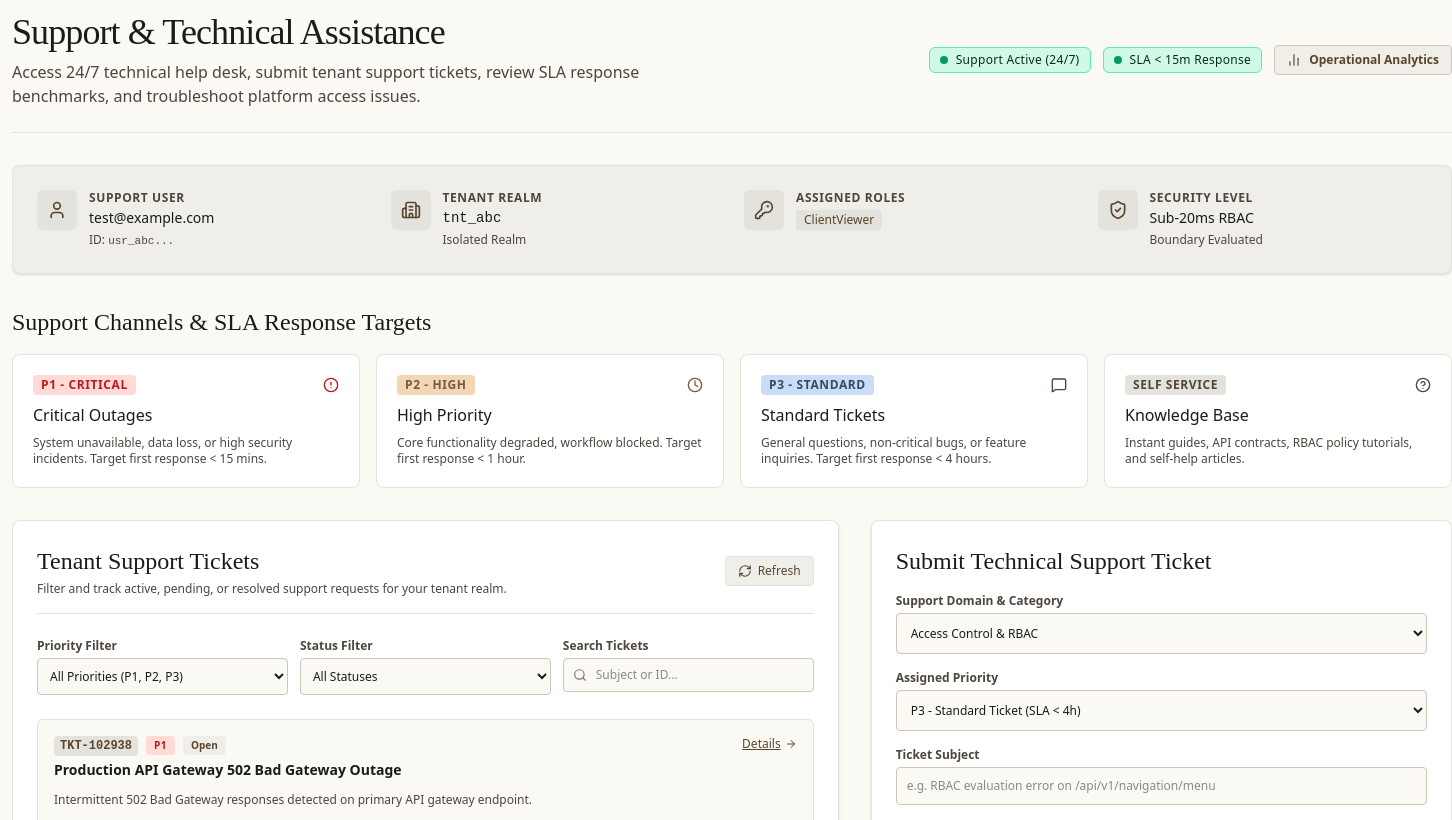
Test case: SupportPage Component › renders support ticket directory and filters tickets by priority, status, and search query
Expected: the heading "Tenant Support Tickets" is shown, 37,548 -> 259,574
Expected: the heading "Production API Gateway 502 Bad Gateway Outage" is shown, 54,760 -> 402,780
// Filter by Priority P1
Select "P1 - Critical" in the dropdown labelled "Priority Filter" at (162, 676), box 37,658 -> 288,695
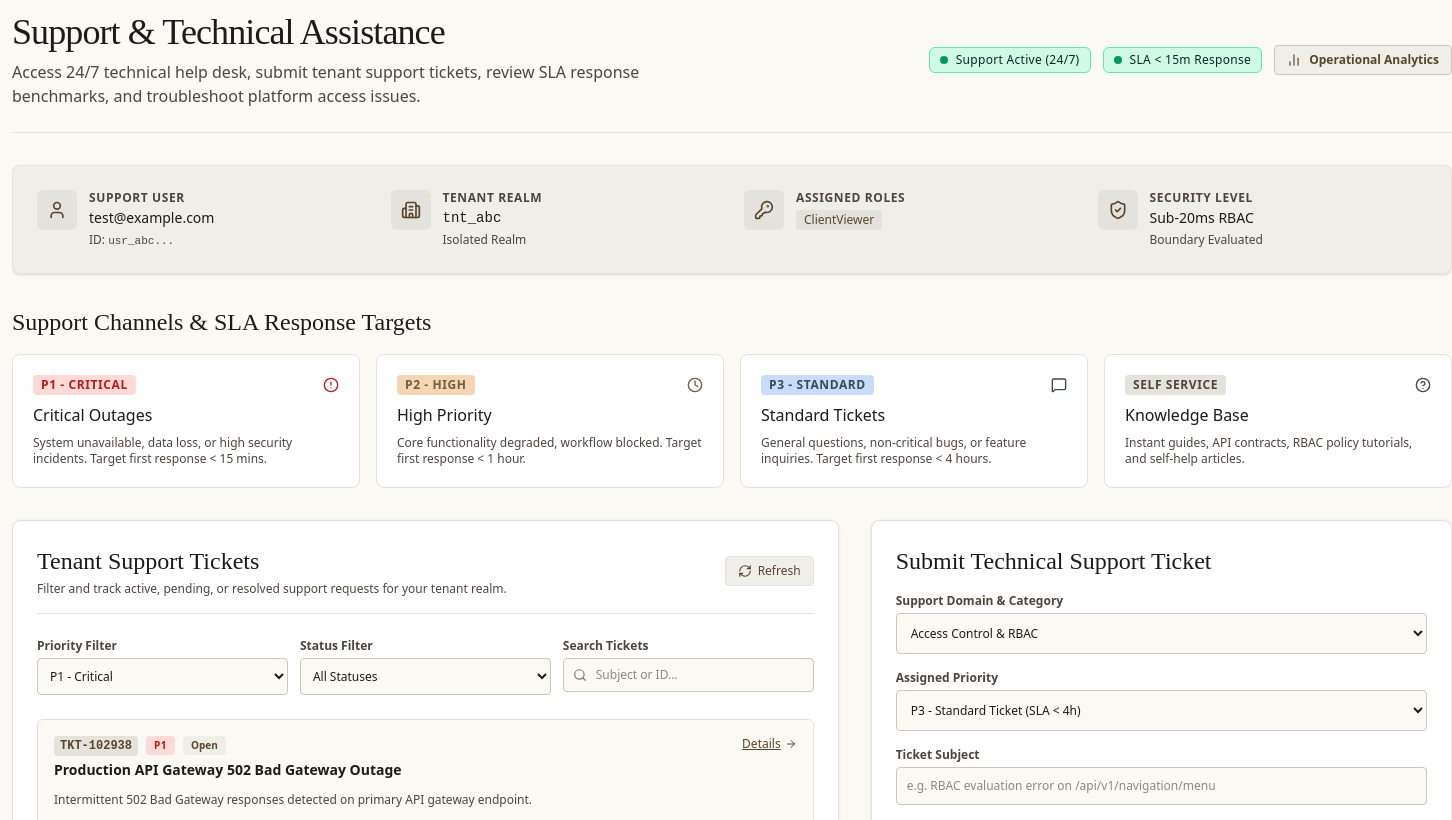
Expected: the heading "Production API Gateway 502 Bad Gateway Outage" is shown, 54,760 -> 402,780
// Filter reset
Select "All Priorities (P1, P2, P3)" in the dropdown labelled "Priority Filter" at (162, 676), box 37,658 -> 288,695
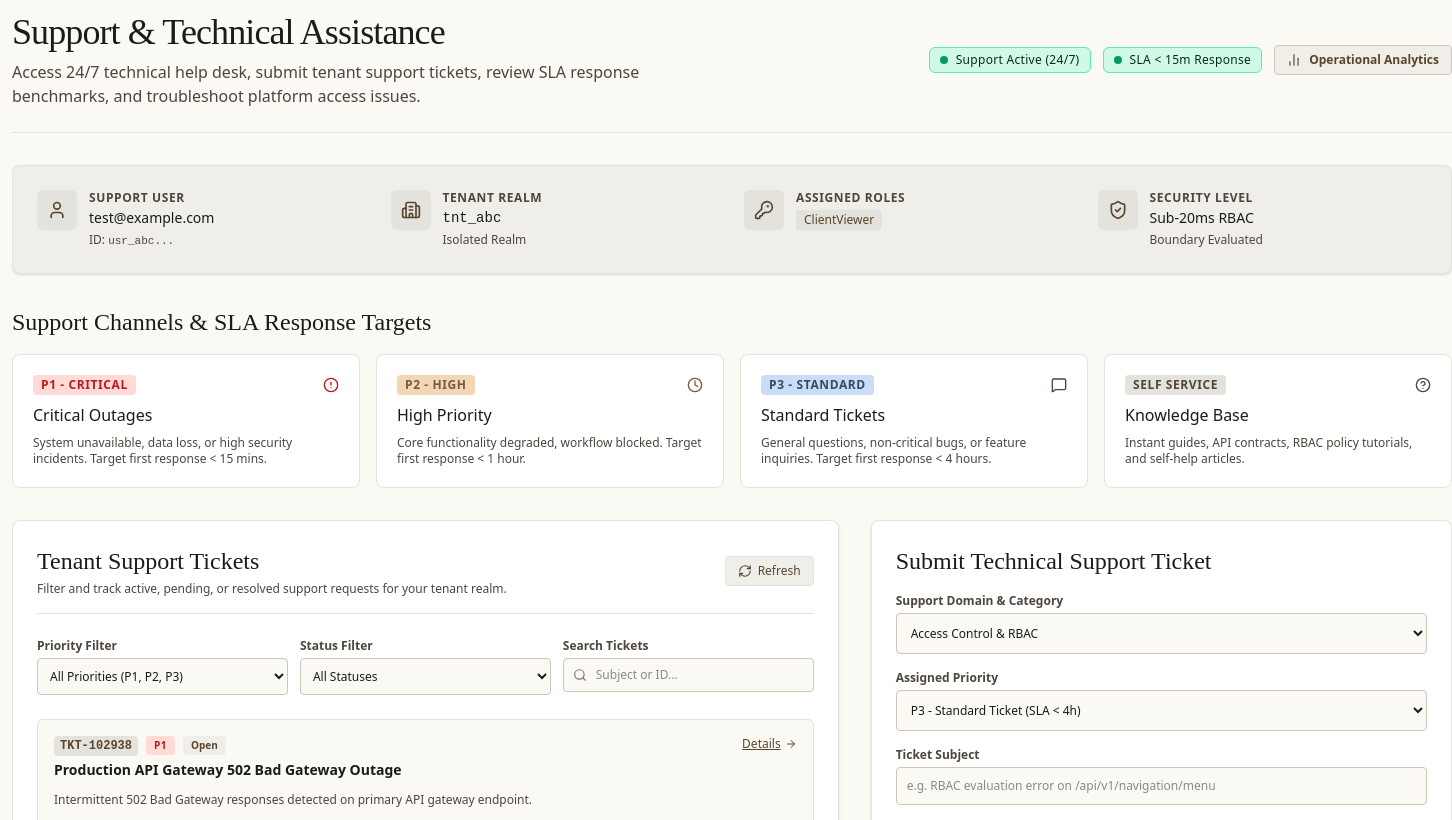
// Filter by Search Query
Type "Audit Log" into the field labelled "Search Tickets" at (688, 675), box 563,658 -> 814,692
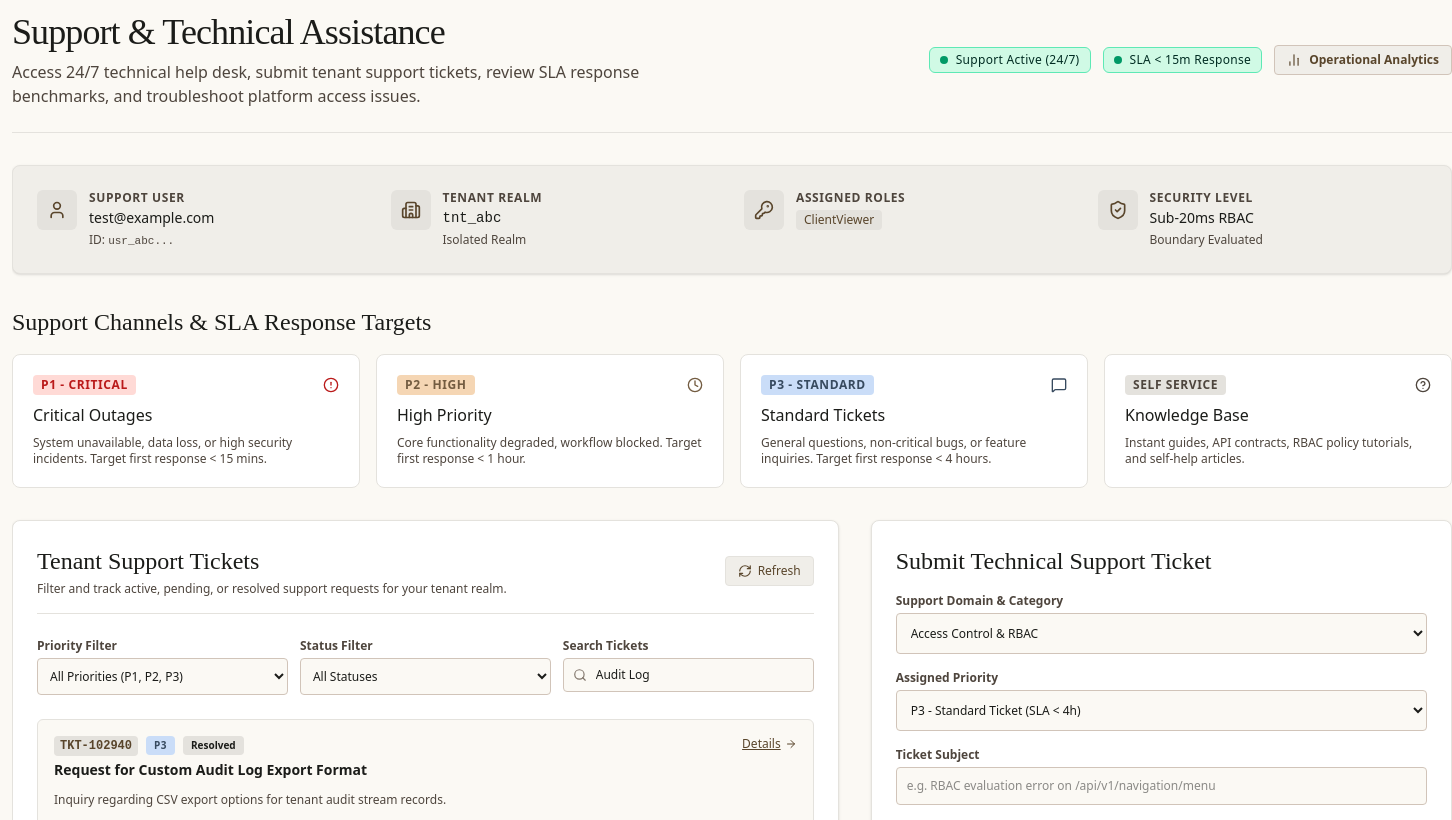
Expected: the heading "Request for Custom Audit Log Export Format" is shown, 54,760 -> 367,780
Expected: the heading "Production API Gateway 502 Bad Gateway Outage" is gone
